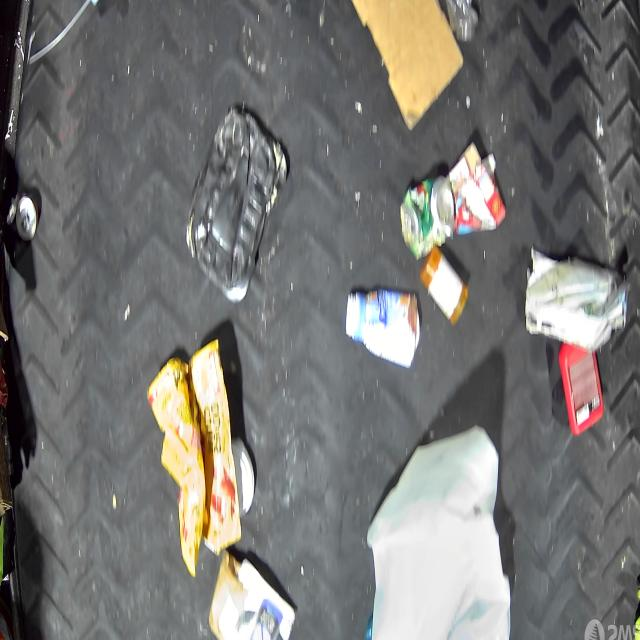can: (400, 175, 456, 257), (233, 438, 255, 518), (6, 191, 38, 243)
milk_jug: (368, 424, 510, 640)
